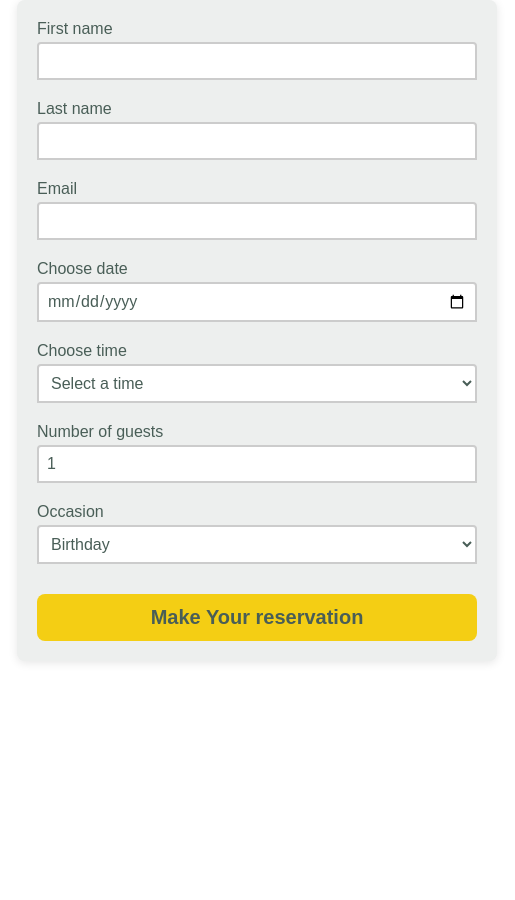
Scenario: JavaScript Validation Functions › Date Validation › shows error for empty date field
Click the button with aria-label "submit reservation form" at (257, 618), box [37,594,477,641]
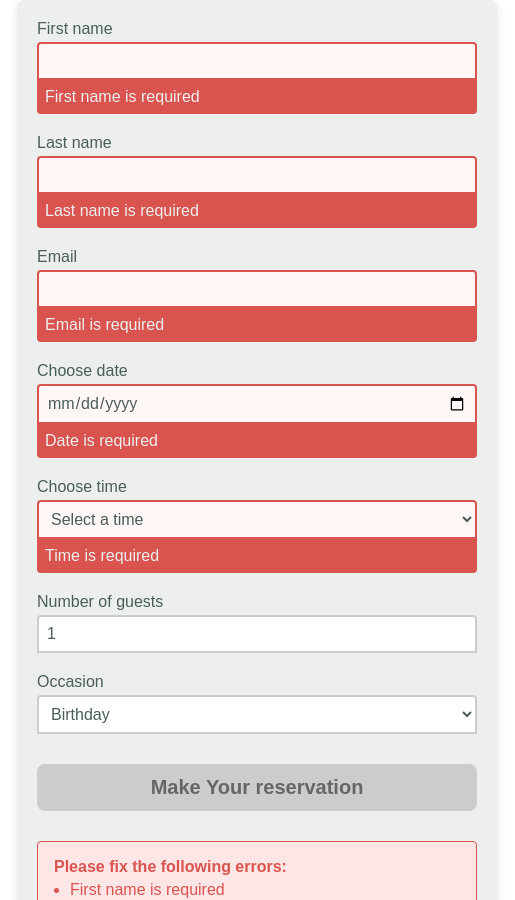
Expected: the text "Date is required" is shown 2 times
